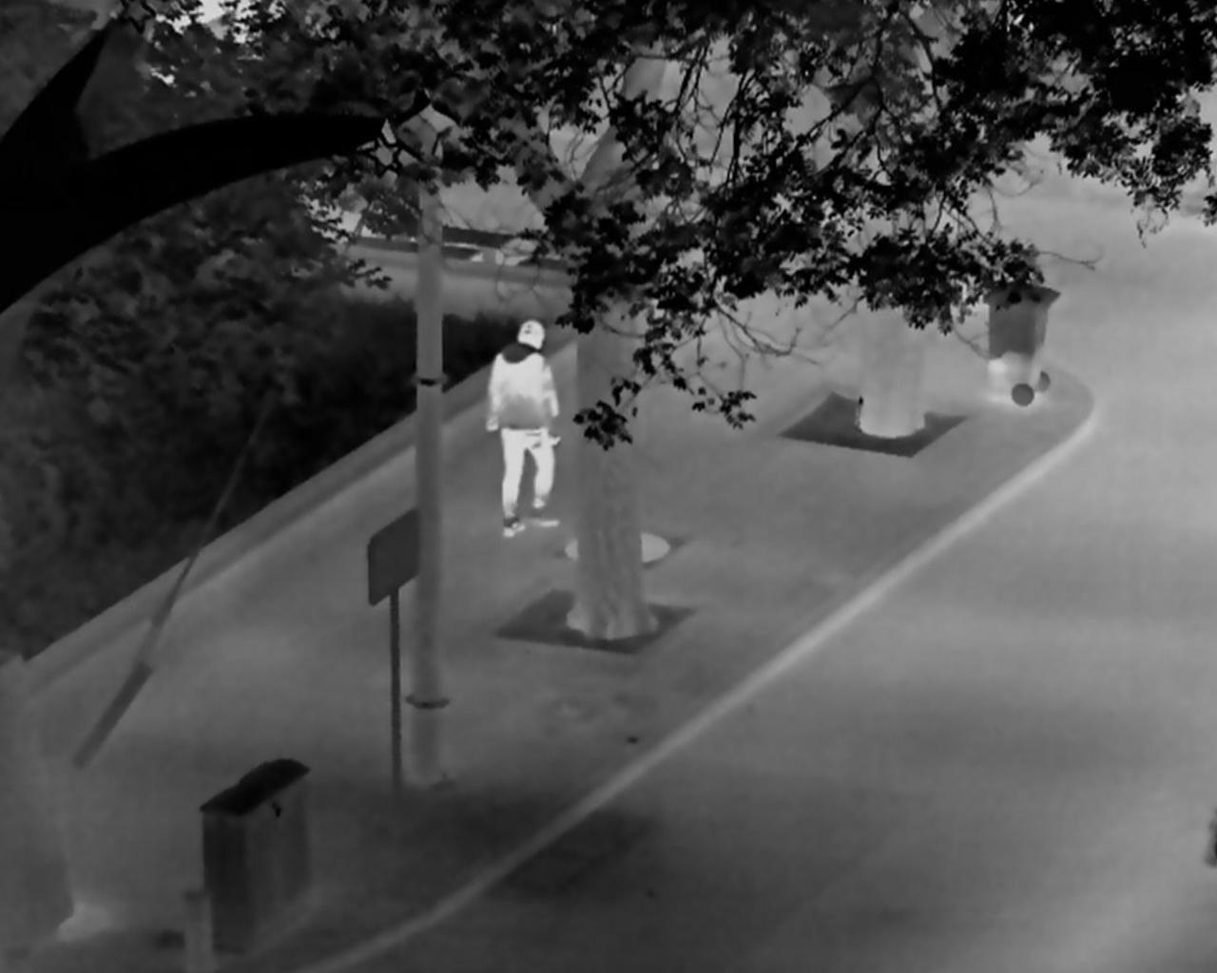person: (485, 318, 564, 539)
